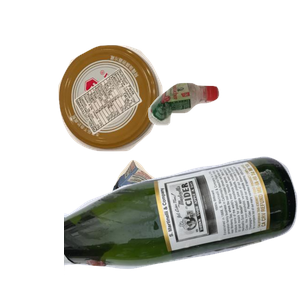glass: (64, 154, 300, 300)
metal: (56, 43, 211, 187)
plastic: (146, 80, 300, 198)
trash: (95, 157, 282, 300)
